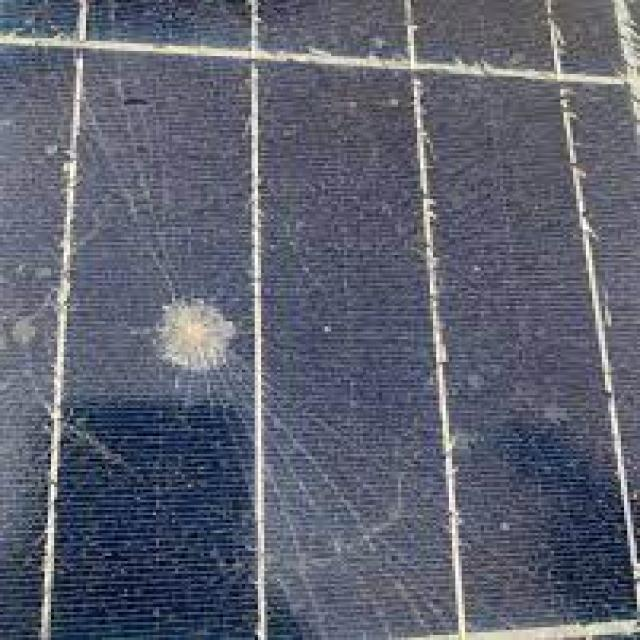faulty: (12, 0, 618, 640)
